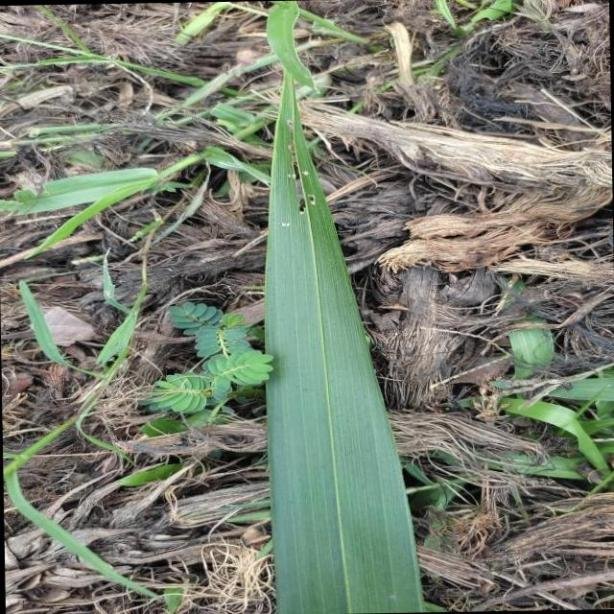Boron: (263, 7, 422, 614)
